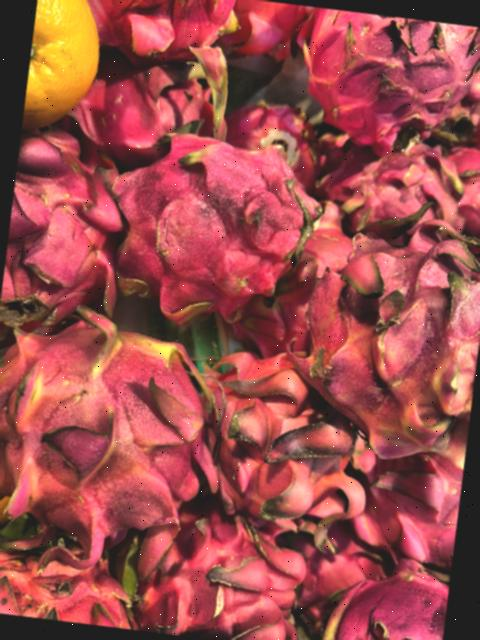buah-naga-belum-matang: (0, 322, 224, 554), (283, 230, 480, 454)
buah-naga-matang: (103, 128, 328, 308), (201, 338, 385, 554), (0, 124, 137, 340), (287, 5, 480, 148), (114, 505, 296, 640), (314, 544, 452, 640)
